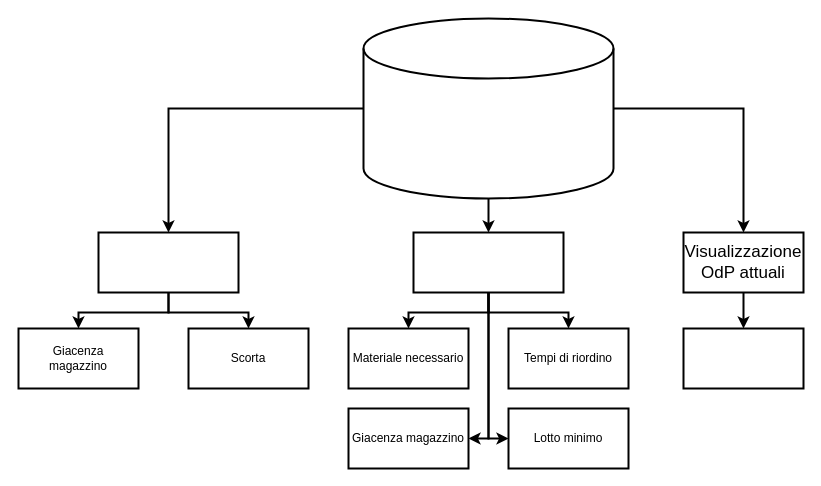
Image size: 821x486. Some labels were removed from this diagram. Here are the shapes that lost their labels. From the top down, the centre of each, then its label:
At (488,108): "Dati di input".
At (168,262): "Visualizzazione giacenze attuali".
At (488,262): "Visualizzazione materiale ric hiesto".
At (743,358): "Tempi di lavorazione".
